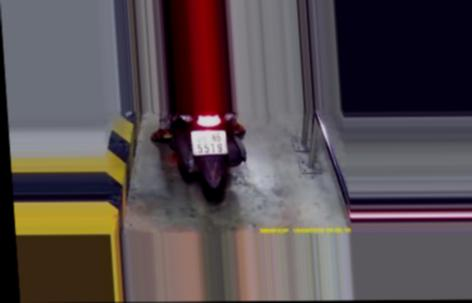License_Plate: (188, 128, 229, 158)
